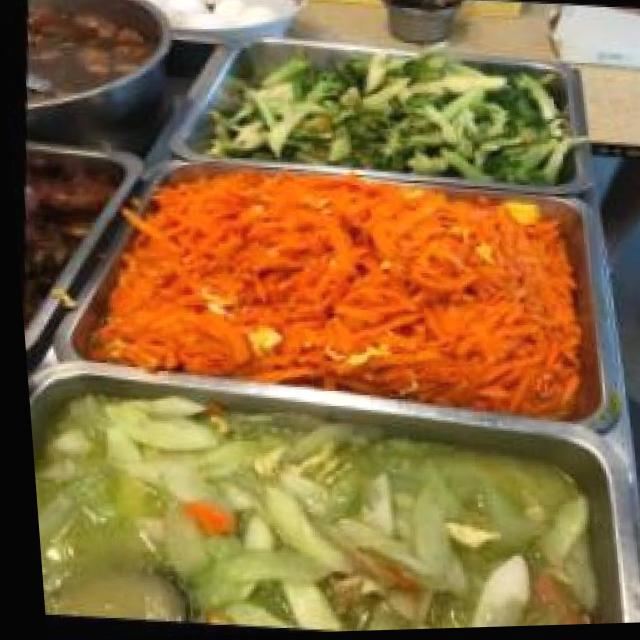carrot_eggs: (143, 173, 554, 410)
